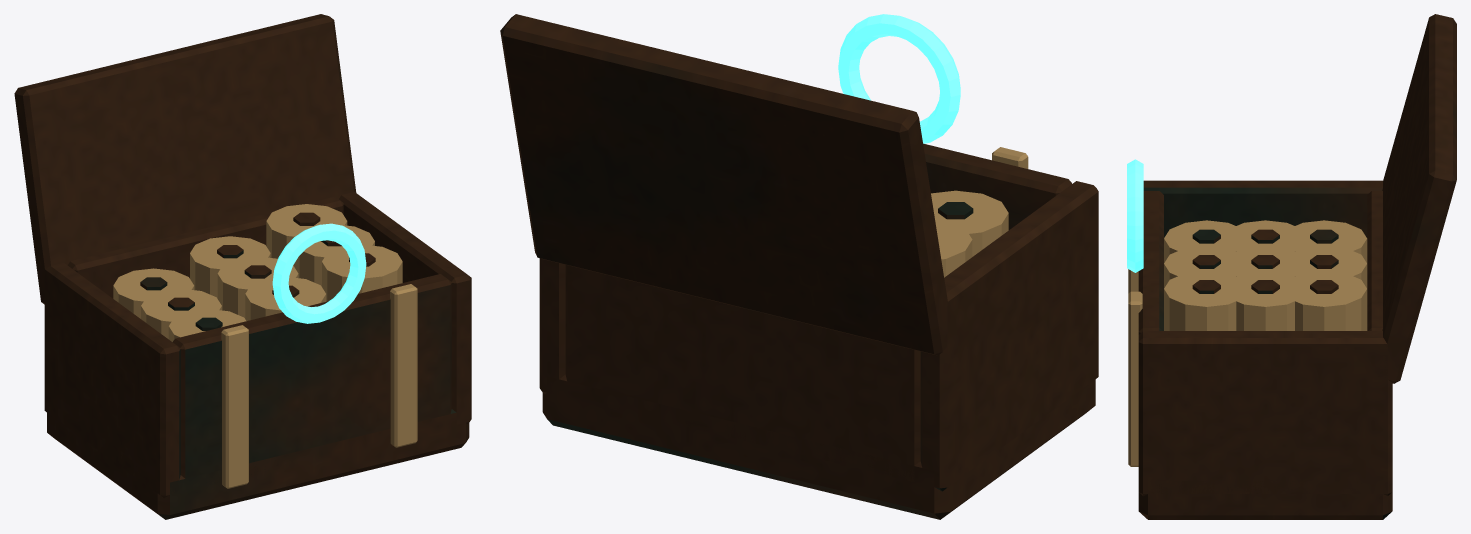
File: coin_casket.fbx
The picture shows the model from 3 angles, left to right: view 1: azimuth 30°, elevation 25°; view 2: azimuth 150°, elevation 25°; view 3: azimuth 270°, elevation 25°; orthographic projection. The views are drawn at different scales.
Visible parts, largest first — view 1: coin_casket_Body.011, coin_casket_Grip.011; view 2: coin_casket_Body.011, coin_casket_Grip.011; view 3: coin_casket_Body.011, coin_casket_Grip.011.
Boxes of the visible parts, x1,y1,x2,y2 form: coin_casket_Body.011: (14,14,471,519); coin_casket_Grip.011: (272,223,366,323); coin_casket_Body.011: (500,14,1098,519); coin_casket_Grip.011: (838,14,960,143); coin_casket_Body.011: (1128,14,1456,519); coin_casket_Grip.011: (1127,159,1143,272).
Size of the model in its own units: 0.24 by 0.2441 by 0.2077.
Materials: 3 (1 with a texture image).
